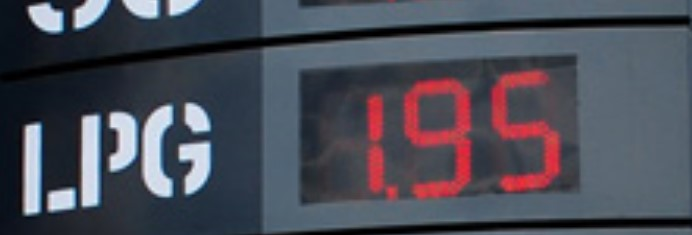digits: (485, 67, 565, 195), (400, 70, 476, 203), (327, 73, 390, 195)
